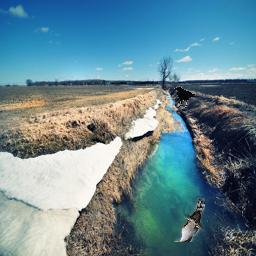Crow: (173, 86, 197, 108)
Cuckoo: (175, 198, 206, 242)
